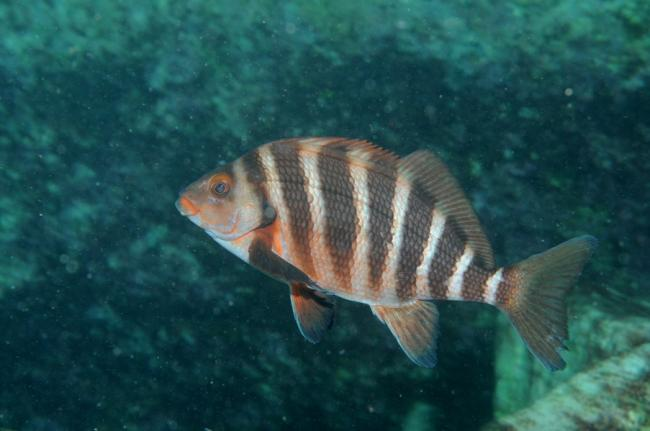fish: (176, 137, 599, 376)
